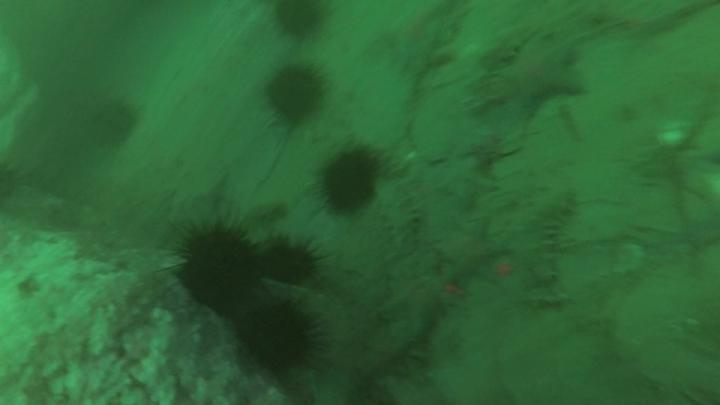echinus: (180, 226, 262, 311), (238, 301, 311, 366), (265, 65, 323, 122), (326, 146, 375, 209), (263, 244, 314, 284), (91, 105, 135, 147), (273, 1, 322, 38)
holothurian: (521, 186, 578, 284), (380, 176, 424, 252)
starfish: (502, 41, 582, 111), (380, 276, 457, 337), (435, 219, 503, 281), (437, 154, 493, 203)
